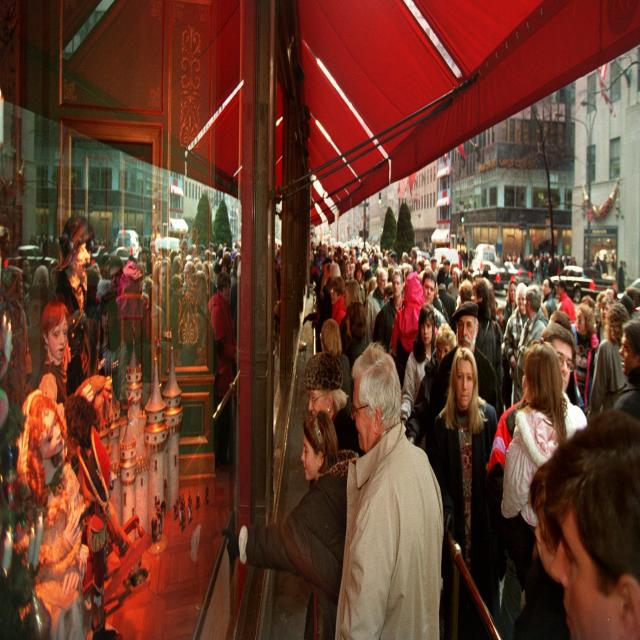body: (0, 206, 118, 640), (326, 337, 452, 640), (220, 409, 360, 640), (309, 232, 638, 312), (485, 319, 578, 566), (432, 344, 508, 640), (544, 422, 640, 640), (500, 335, 590, 537), (510, 456, 570, 638), (118, 229, 283, 292), (304, 350, 366, 492), (434, 298, 504, 422), (403, 322, 459, 451), (207, 270, 238, 464), (540, 310, 586, 438), (184, 268, 213, 454), (161, 272, 190, 457), (588, 303, 630, 421), (399, 302, 436, 427), (512, 283, 549, 408), (398, 269, 444, 363), (470, 277, 503, 396), (566, 302, 600, 416), (502, 281, 530, 408), (319, 316, 354, 415), (611, 313, 640, 418), (372, 268, 406, 354), (338, 278, 372, 346), (139, 274, 167, 336), (364, 268, 388, 339), (342, 299, 368, 361), (421, 268, 447, 326), (155, 260, 177, 312), (328, 274, 347, 329), (457, 277, 474, 308), (182, 260, 196, 296)
